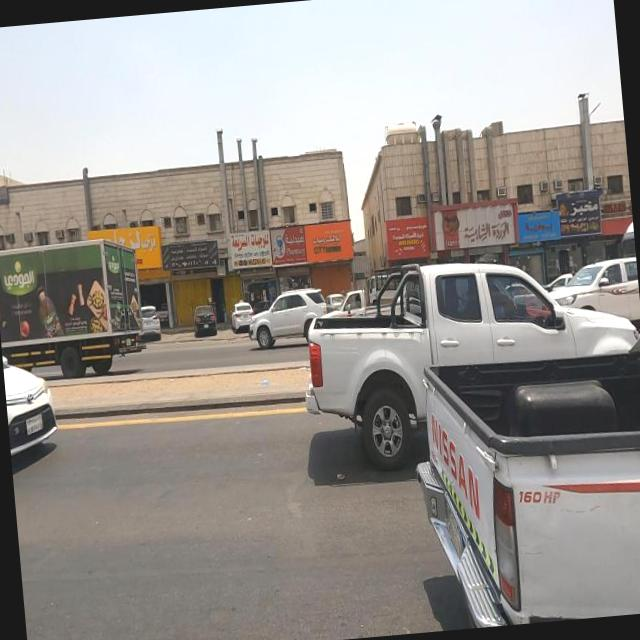debris: (234, 358, 290, 422)
